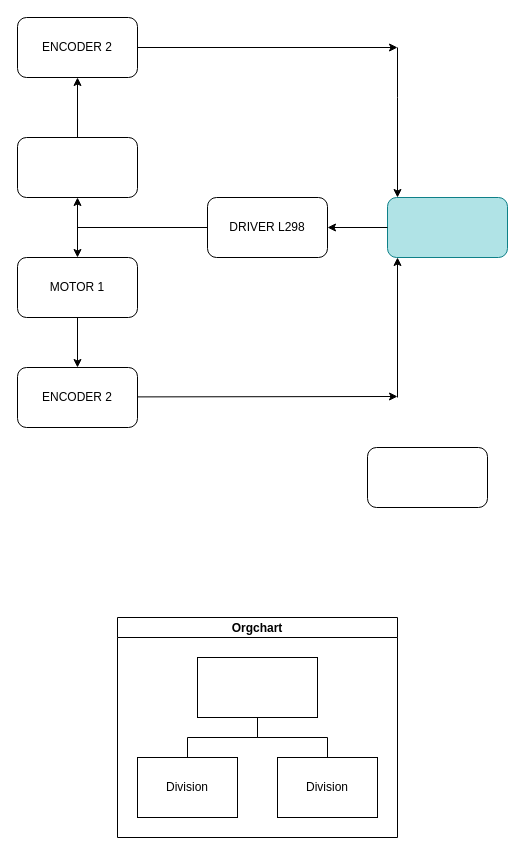
This 525x855 diagram has some shape labels left out. Each missing label, with the box of its shape:
MOTOR 2: (16, 136, 138, 198)
Organization: (196, 656, 318, 718)
STM32: (386, 196, 508, 258)
